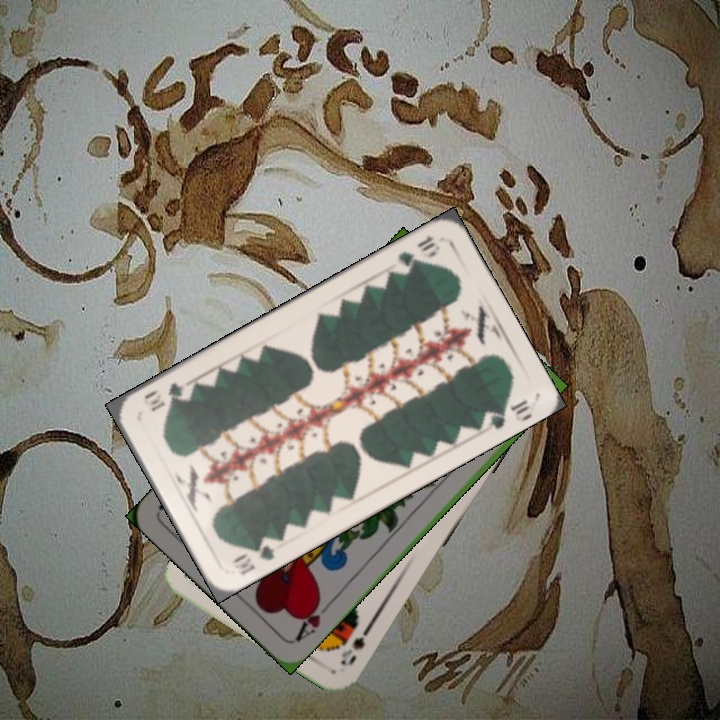G10: (230, 533, 278, 578), (393, 230, 443, 272)
HA: (291, 593, 336, 644)
SO: (336, 618, 376, 668)
